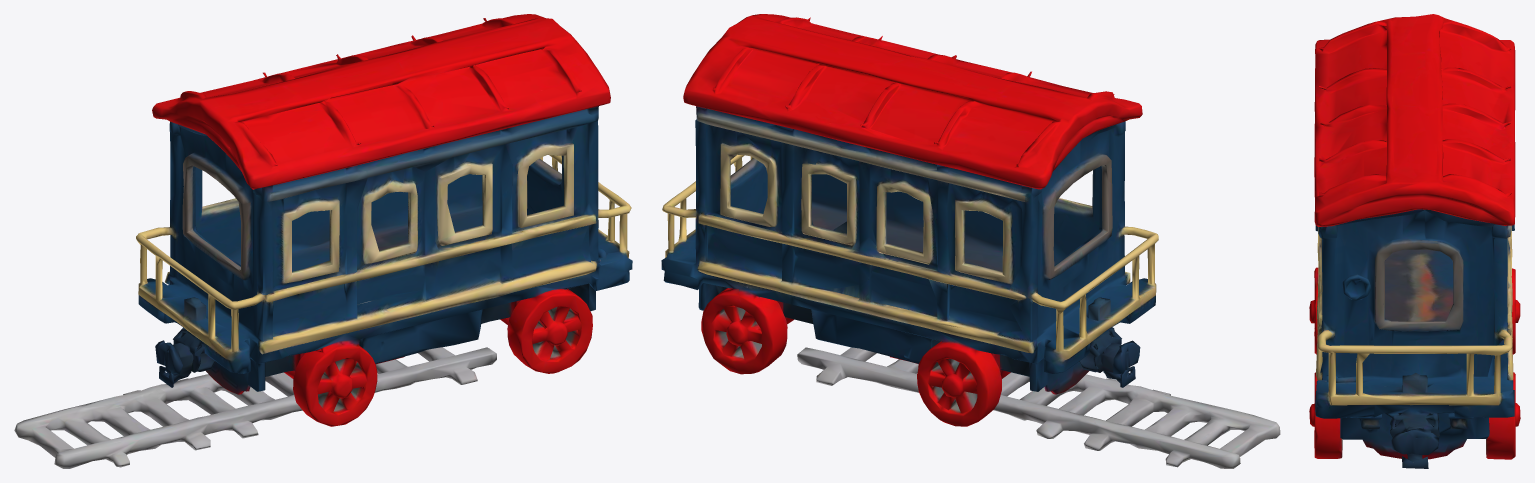
File: carriage.glb
3 views of the same model, side by side, from view 1: azimuth 30°, elevation 25°; view 2: azimuth 150°, elevation 25°; view 3: azimuth 270°, elevation 25° (orthographic).
Parts seen in each view (by area): view 1: tripo_node_d7217d75-c78c-4f18-8c8a-97d86f0683d1; view 2: tripo_node_d7217d75-c78c-4f18-8c8a-97d86f0683d1; view 3: tripo_node_d7217d75-c78c-4f18-8c8a-97d86f0683d1.
Part boxes in pixels (x1=…): tripo_node_d7217d75-c78c-4f18-8c8a-97d86f0683d1: x1=14, y1=14, x2=632, y2=468; tripo_node_d7217d75-c78c-4f18-8c8a-97d86f0683d1: x1=661, y1=14, x2=1280, y2=468; tripo_node_d7217d75-c78c-4f18-8c8a-97d86f0683d1: x1=1309, y1=14, x2=1520, y2=468.
Bounding box in the file's own units: 1 × 0.5056 × 0.3196.
Materials: 1 (1 with a texture image).
